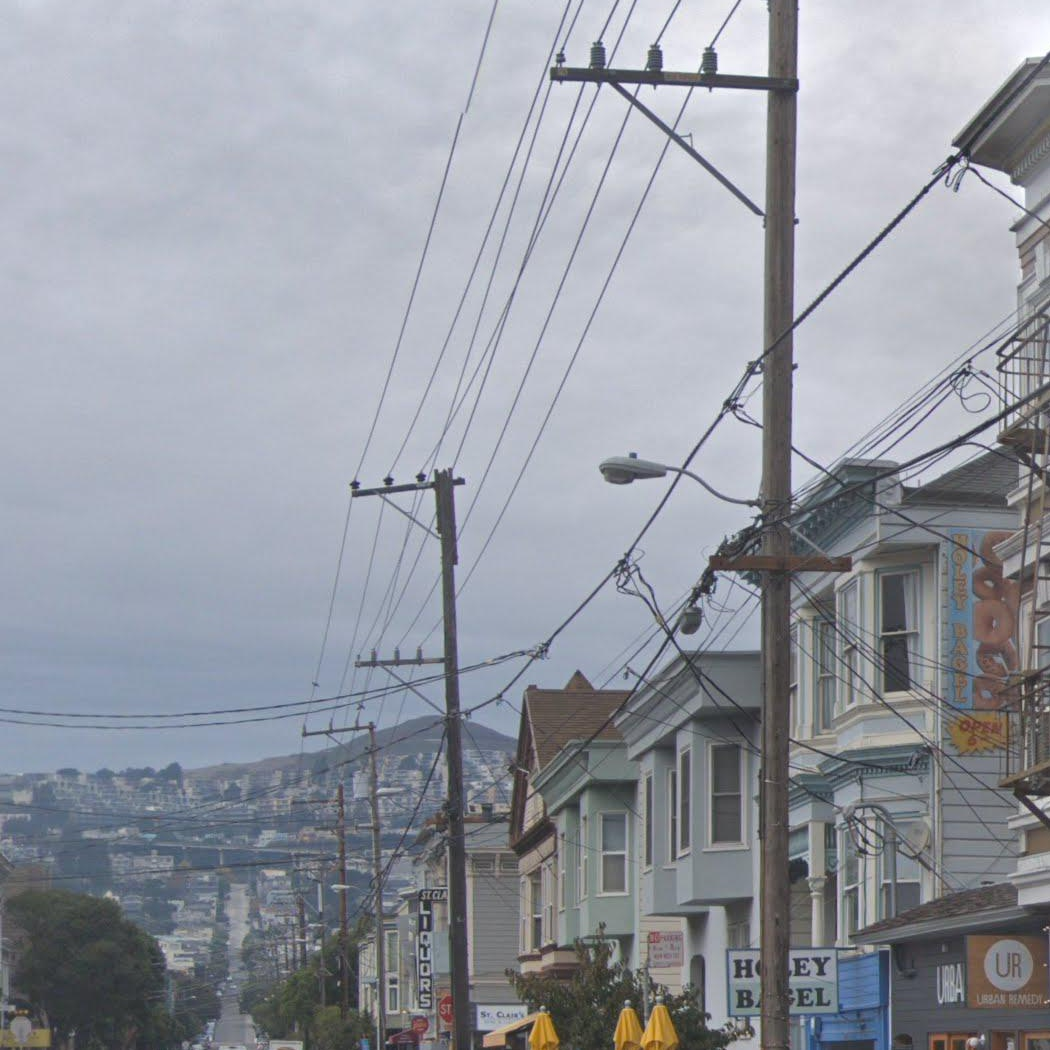No Parking: (646, 929, 685, 969)
